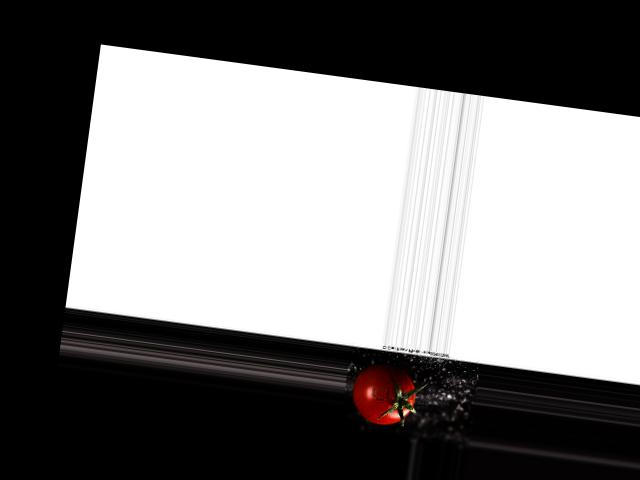tomato: (349, 360, 419, 428)
